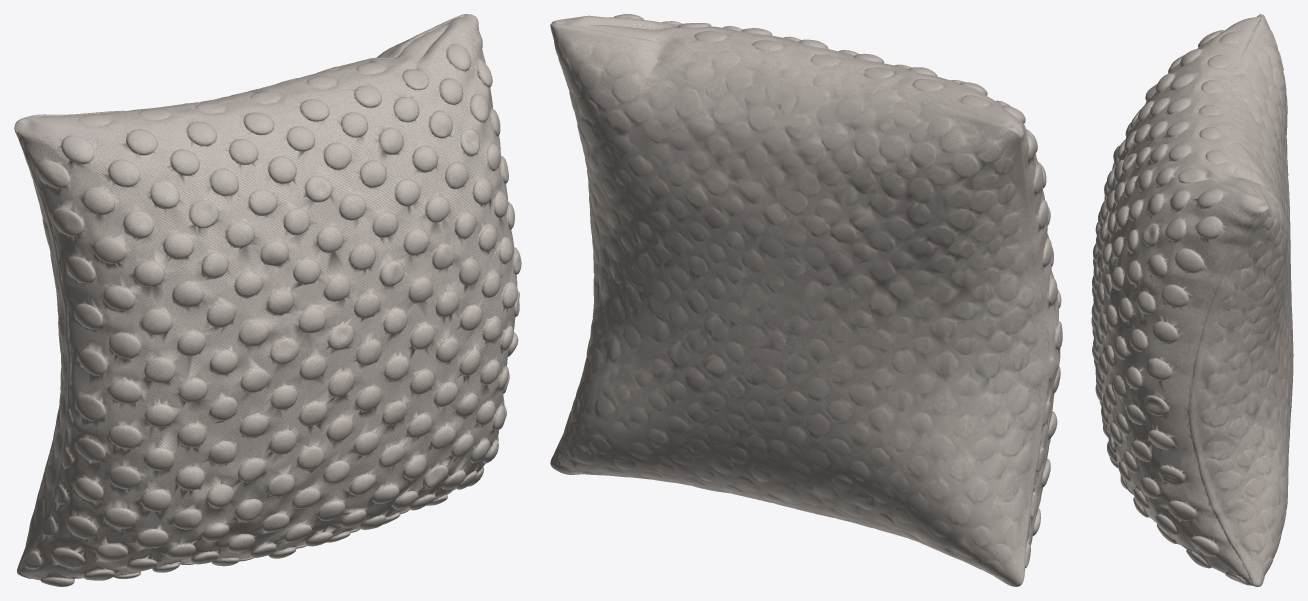
The model's file is kissen-01.glb.
The picture shows the model from 3 angles, left to right: view 1: azimuth 30°, elevation 25°; view 2: azimuth 150°, elevation 25°; view 3: azimuth 270°, elevation 25°; orthographic projection. The views are drawn at different scales.
Size of the model in its own units: 1.9 by 1.79 by 0.835.
1 material, 1 textured.
